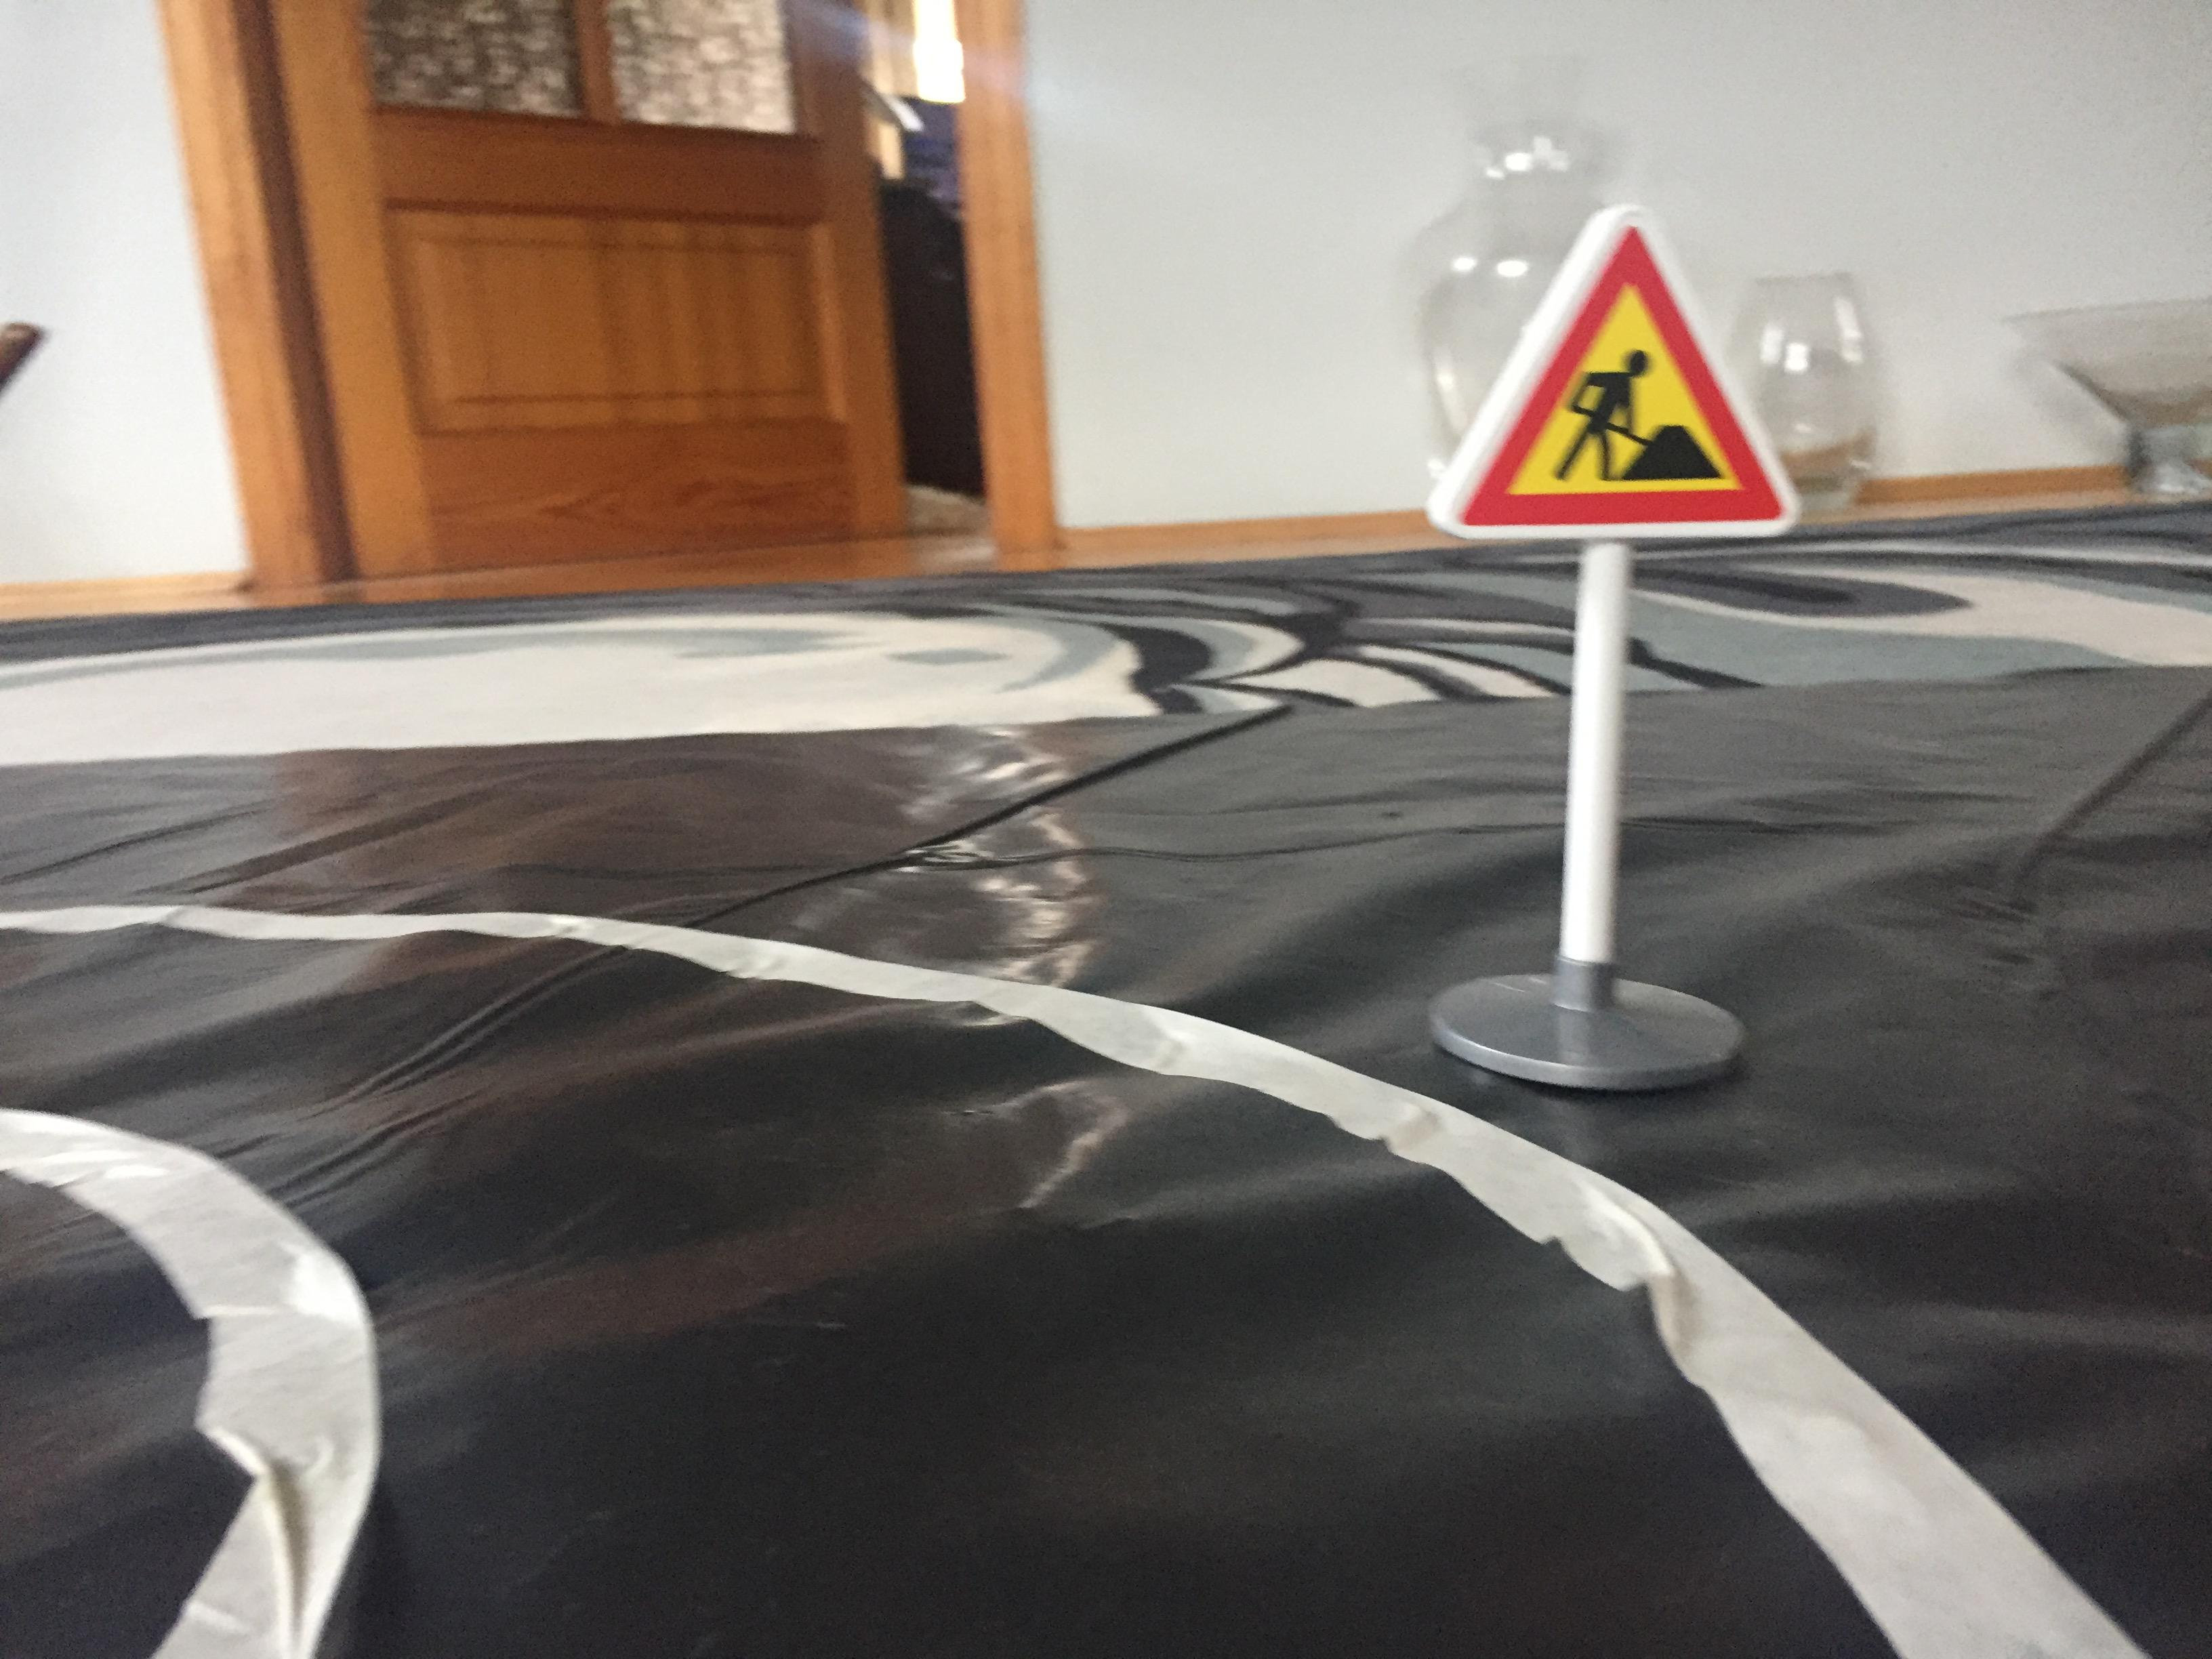work: (1421, 195, 1808, 556)
